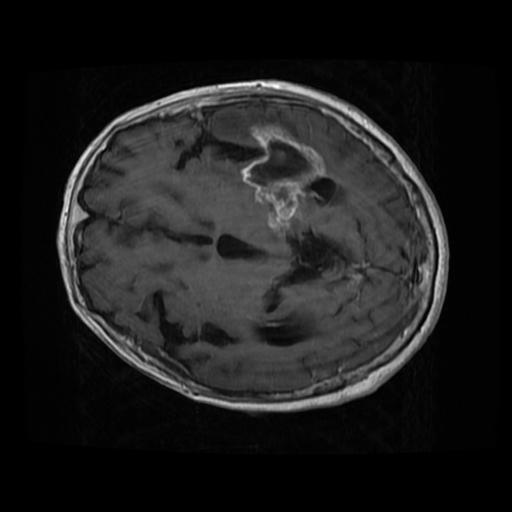glioma: (239, 125, 326, 230)
